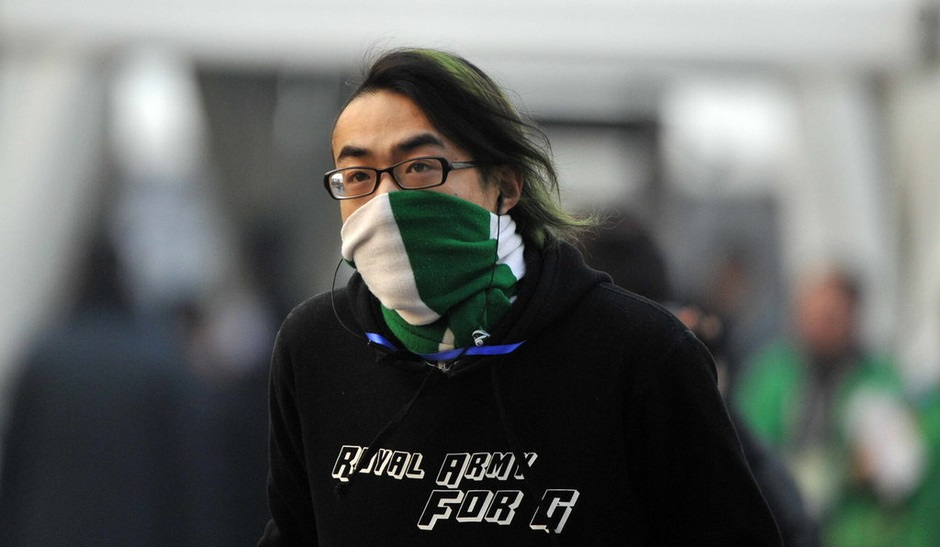face: (331, 106, 490, 324)
